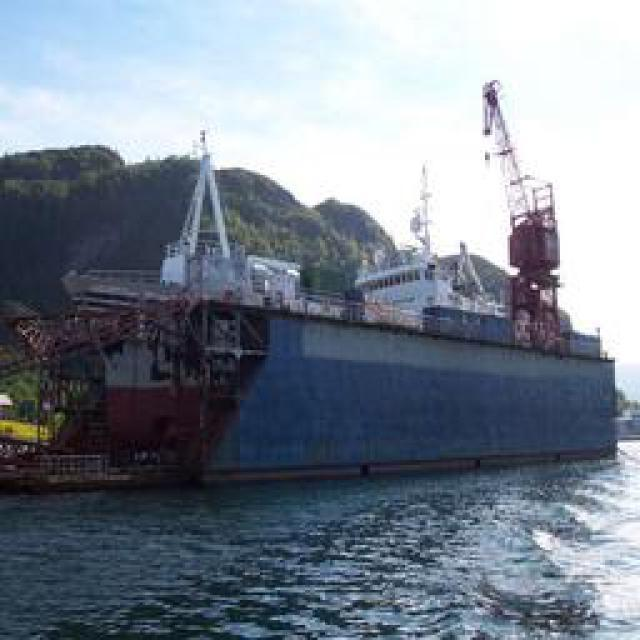Ship: (30, 85, 613, 485)
